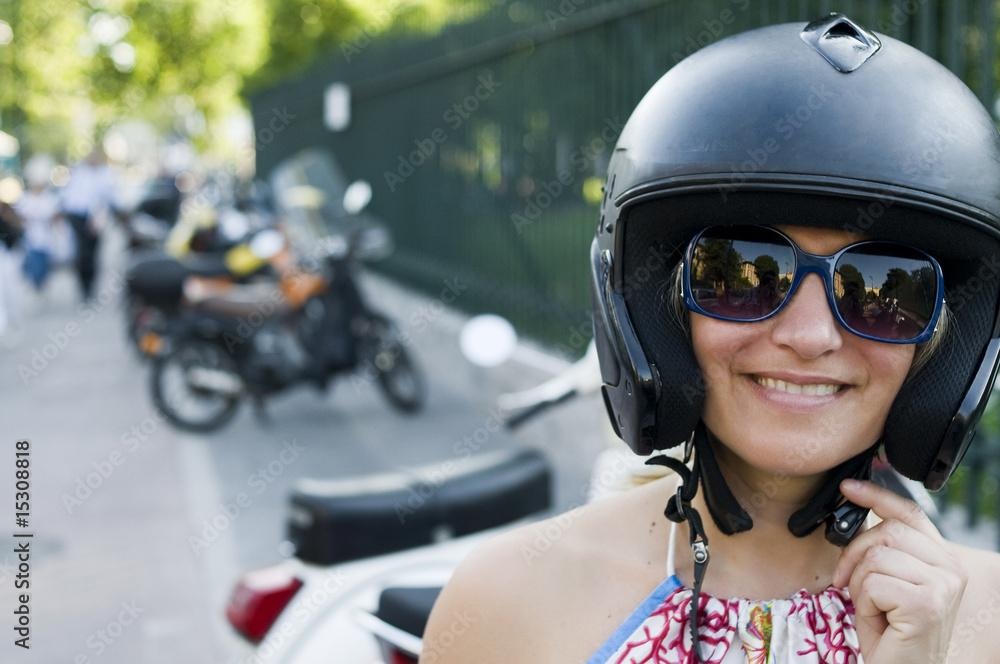helmet: (587, 8, 1000, 568)
